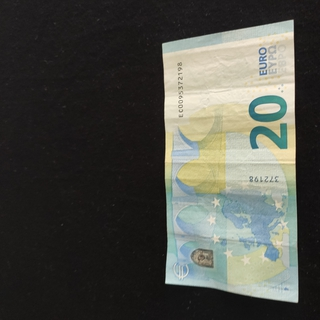20EUROBack: (161, 19, 298, 303)
